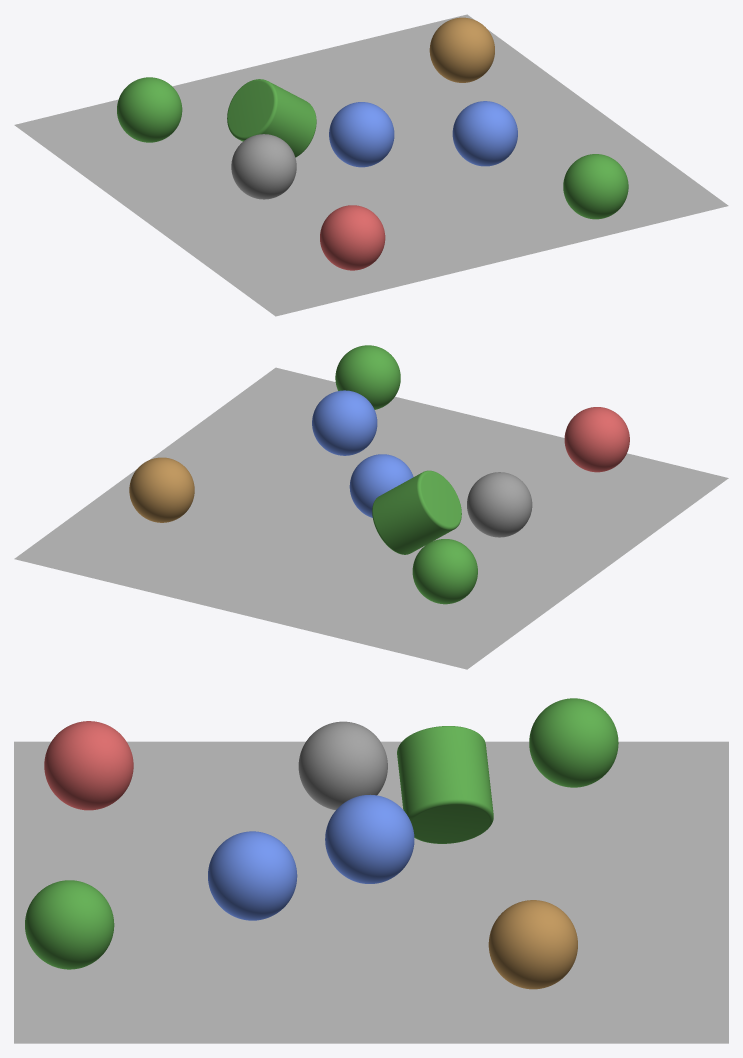
3 renders of one model, top to bottom at view 1: azimuth 30°, elevation 25°; view 2: azimuth 150°, elevation 25°; view 3: azimuth 270°, elevation 25°, orthographic. The views are drawn at different scales.
Visible parts, largest first — view 1: Cube, FileBasedObject.003, FileBasedObject.001, FileBasedObject.004, FileBasedObject.005, FileBasedObject, FileBasedObject.006, FileBasedObject.007, FileBasedObject.002; view 2: Cube, FileBasedObject.003, FileBasedObject.004, FileBasedObject.006, FileBasedObject.007, FileBasedObject.001, FileBasedObject.002, FileBasedObject.005, FileBasedObject; view 3: Cube, FileBasedObject.003, FileBasedObject.002, FileBasedObject.006, FileBasedObject.007, FileBasedObject.005, FileBasedObject, FileBasedObject.001, FileBasedObject.004.
Boxes of the visible parts, bbox=[...] form: Cube: bbox=[14, 14, 728, 316]; FileBasedObject.003: bbox=[227, 79, 316, 157]; FileBasedObject.001: bbox=[452, 101, 517, 166]; FileBasedObject.004: bbox=[231, 134, 296, 199]; FileBasedObject.005: bbox=[563, 154, 628, 219]; FileBasedObject: bbox=[329, 102, 394, 167]; FileBasedObject.006: bbox=[320, 205, 385, 270]; FileBasedObject.007: bbox=[429, 17, 494, 82]; FileBasedObject.002: bbox=[117, 77, 182, 142]; Cube: bbox=[14, 367, 728, 669]; FileBasedObject.003: bbox=[372, 470, 461, 554]; FileBasedObject.004: bbox=[467, 472, 532, 537]; FileBasedObject.006: bbox=[564, 407, 629, 472]; FileBasedObject.007: bbox=[129, 457, 194, 522]; FileBasedObject.001: bbox=[312, 390, 377, 455]; FileBasedObject.002: bbox=[412, 539, 477, 604]; FileBasedObject.005: bbox=[335, 345, 400, 409]; FileBasedObject: bbox=[349, 454, 413, 517]; Cube: bbox=[14, 741, 728, 1043]; FileBasedObject.003: bbox=[397, 726, 493, 843]; FileBasedObject.002: bbox=[529, 698, 618, 787]; FileBasedObject.006: bbox=[44, 721, 133, 810]; FileBasedObject.007: bbox=[488, 900, 577, 989]; FileBasedObject.005: bbox=[25, 880, 114, 969]; FileBasedObject: bbox=[325, 794, 414, 883]; FileBasedObject.001: bbox=[208, 831, 297, 920]; FileBasedObject.004: bbox=[298, 721, 387, 810].
Size of the model in its own units: 8 by 1.41 by 8.
